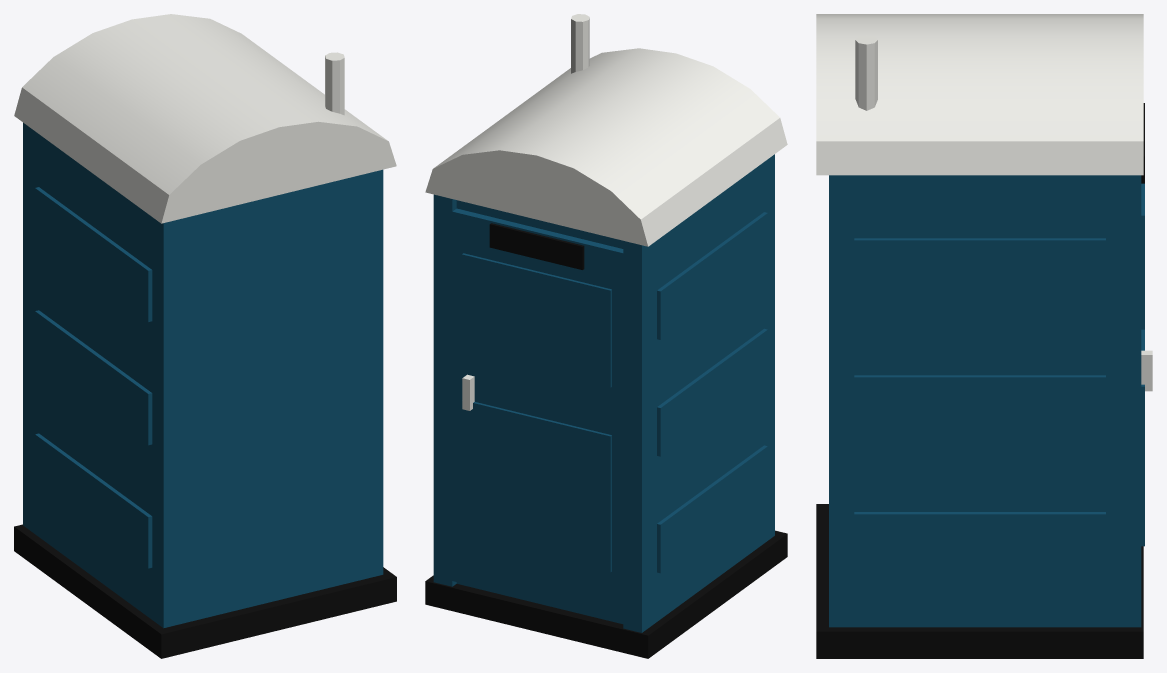
File: plant.cabin.toilet.glb
The picture shows the model from 3 angles, left to right: view 1: azimuth 30°, elevation 25°; view 2: azimuth 150°, elevation 25°; view 3: azimuth 270°, elevation 25°; orthographic projection. The views are drawn at different scales.
Visible parts, largest first — view 1: main__container_blue, main__paint_white, main__plastic_black; view 2: main__container_blue, main__paint_white, main__plastic_black; view 3: main__container_blue, main__paint_white, main__plastic_black.
Boxes of the visible parts, <box> form: main__container_blue: <box>23,122,383,628</box>; main__paint_white: <box>14,14,396,223</box>; main__plastic_black: <box>14,524,396,658</box>; main__container_blue: <box>433,154,774,632</box>; main__paint_white: <box>425,14,787,410</box>; main__plastic_black: <box>425,223,787,658</box>; main__container_blue: <box>829,175,1144,627</box>; main__paint_white: <box>816,14,1152,391</box>; main__plastic_black: <box>816,103,1144,658</box>.
Bounding box in the file's own units: 1.2 × 2.62 × 1.33.
